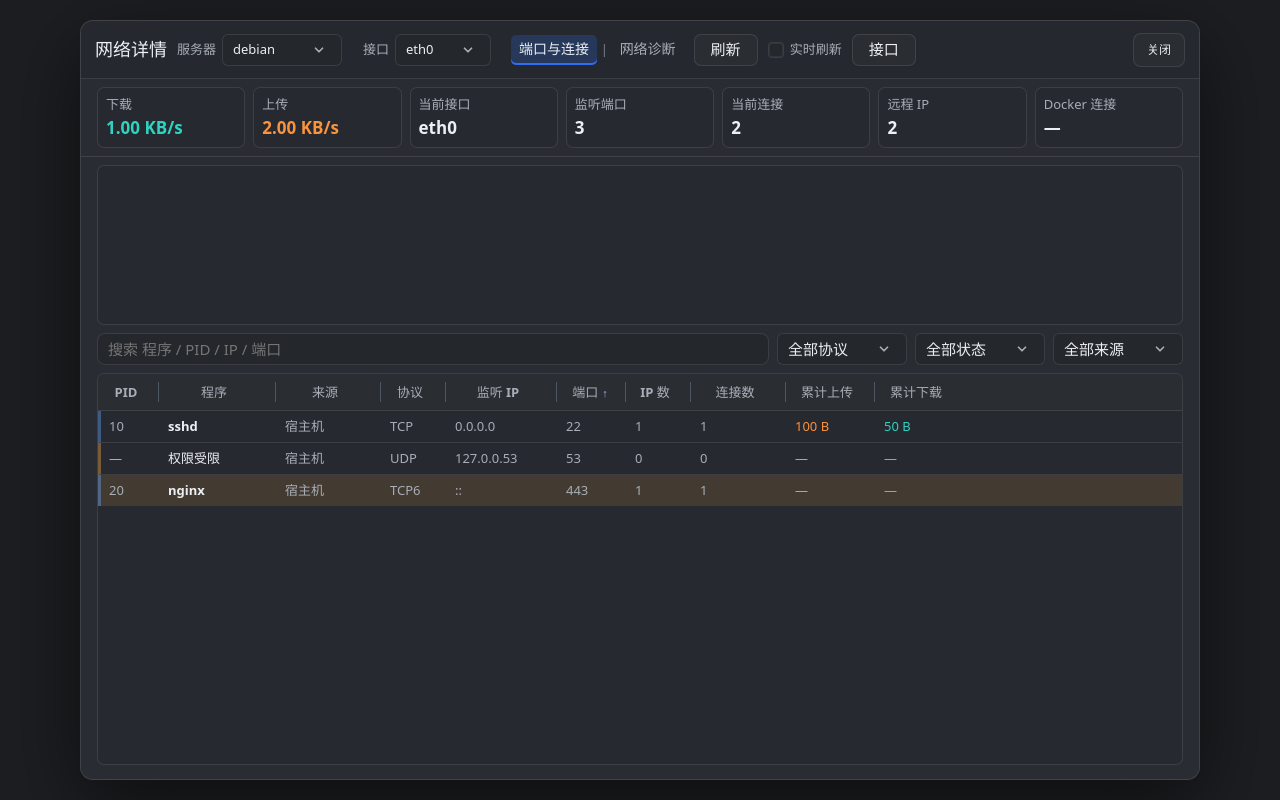
Scenario: NetworkDetailsDialog › keeps the last successful table when a full refresh fails
Click the button "刷新": (726, 50) [694,34,758,66]
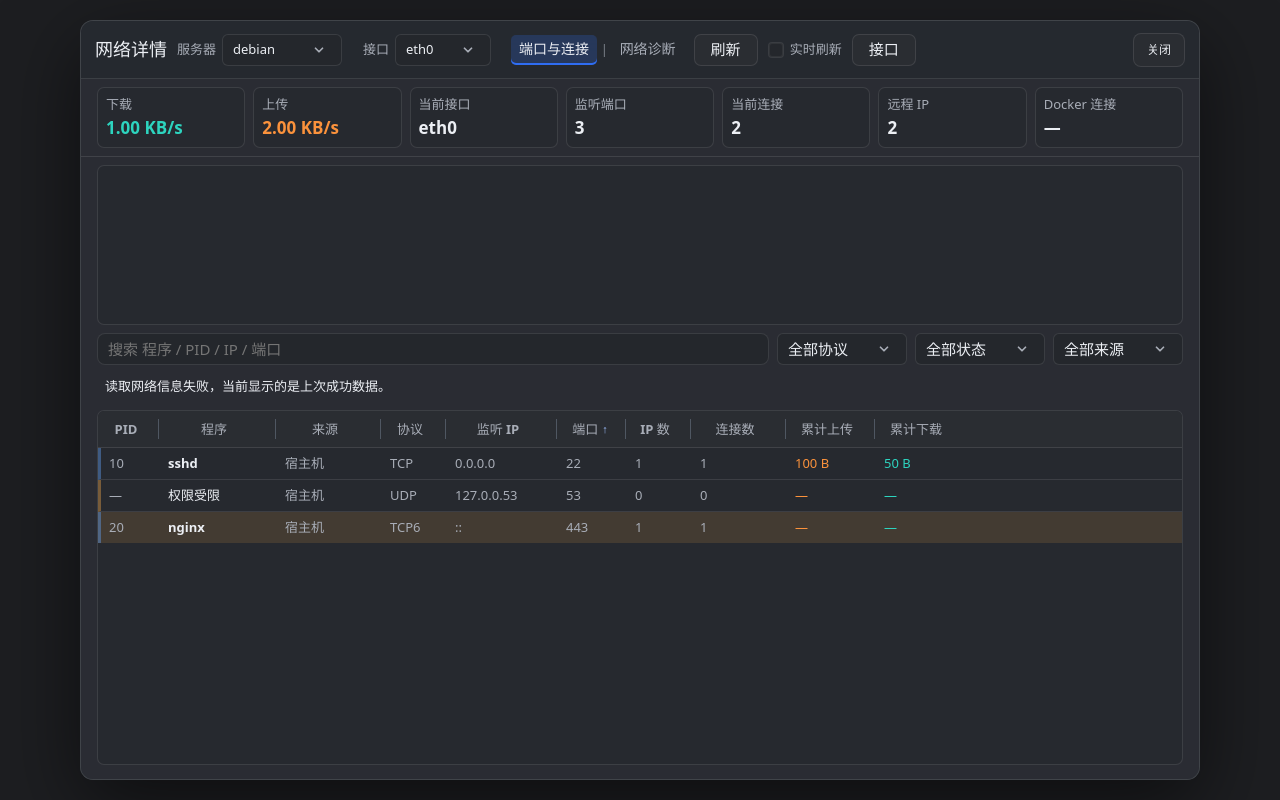
Expected: the element with test id "network-endpoint-table" shows "sshd", [168,454,198,472]
Expected: the text with test id "network-details-warning" shows "当前显示的是上次成功数据", [105,378,391,396]
